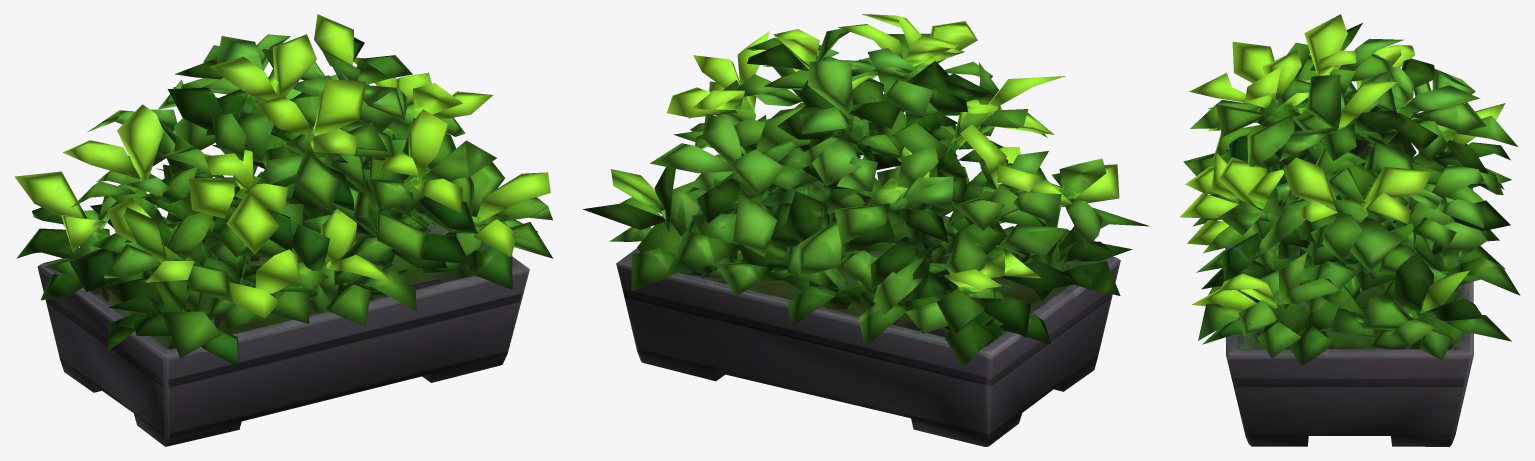
Rendered from shrub-planter.glb.
3 renders of one model, left to right at view 1: azimuth 30°, elevation 25°; view 2: azimuth 150°, elevation 25°; view 3: azimuth 270°, elevation 25°, orthographic. The views are drawn at different scales.
Bounding box in the file's own units: 1 × 0.7343 × 0.7148.
Materials: 1 (1 with a texture image).
